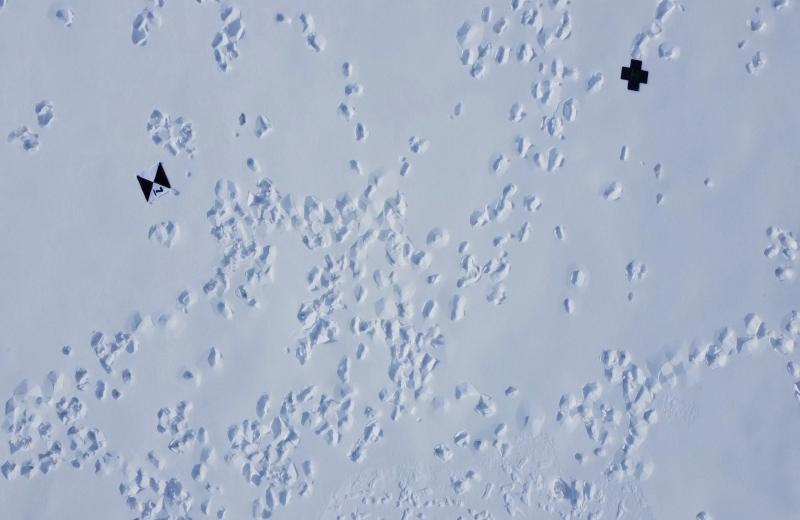Cross: (620, 55, 652, 96)
